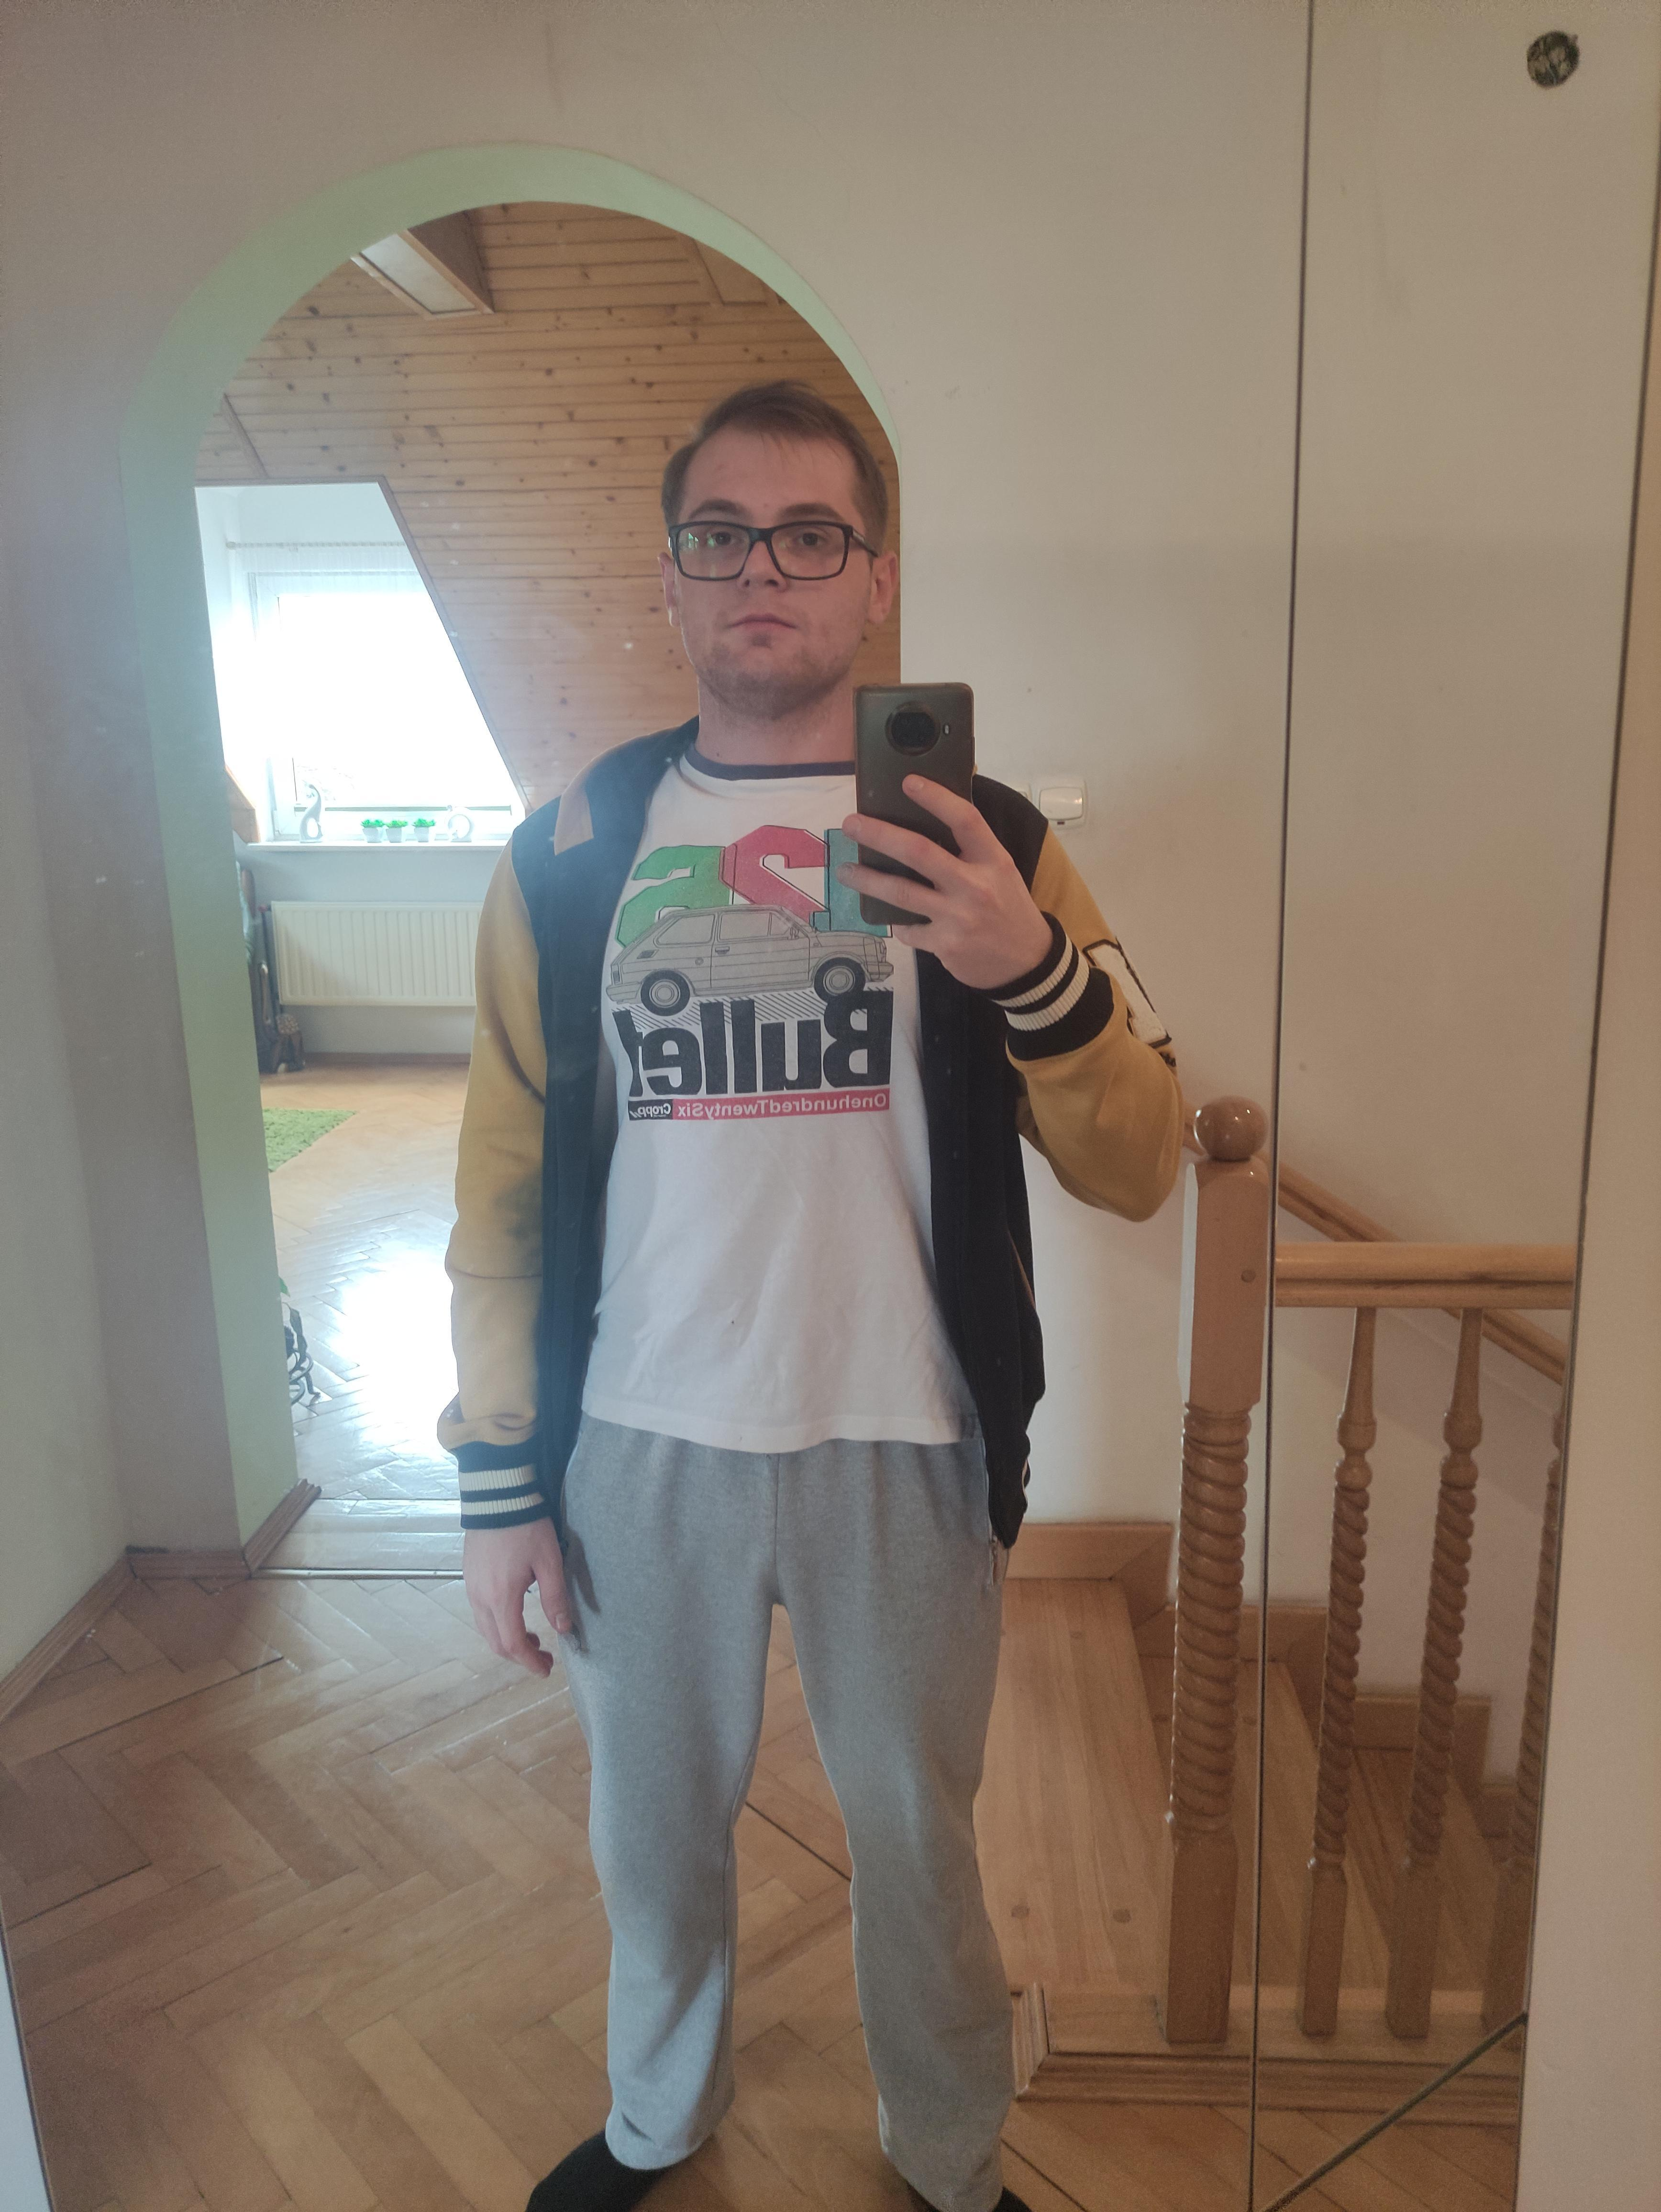Tshirt: (518, 748, 1033, 1455)
pants: (560, 1373, 1019, 2212)
sweater: (436, 715, 1190, 1547)
